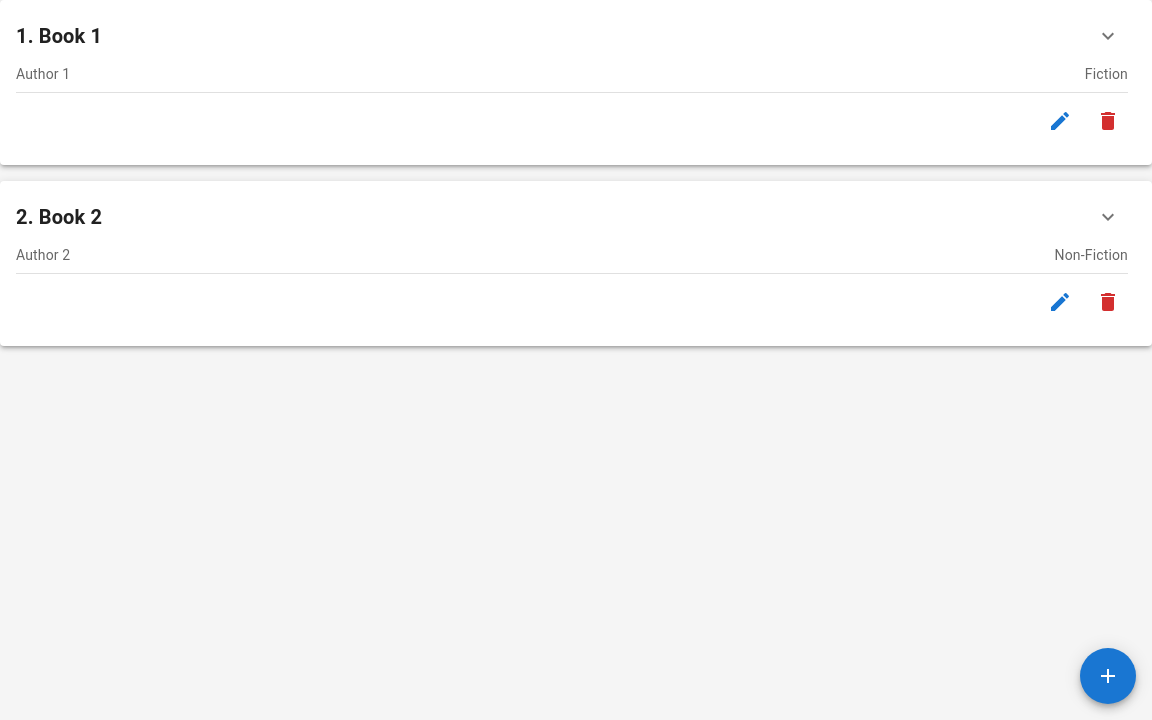
BookList Component › opens modal when Add Book button is clicked
Click the button named "add".
click(1108, 676)  # box [1080,648,1136,704]
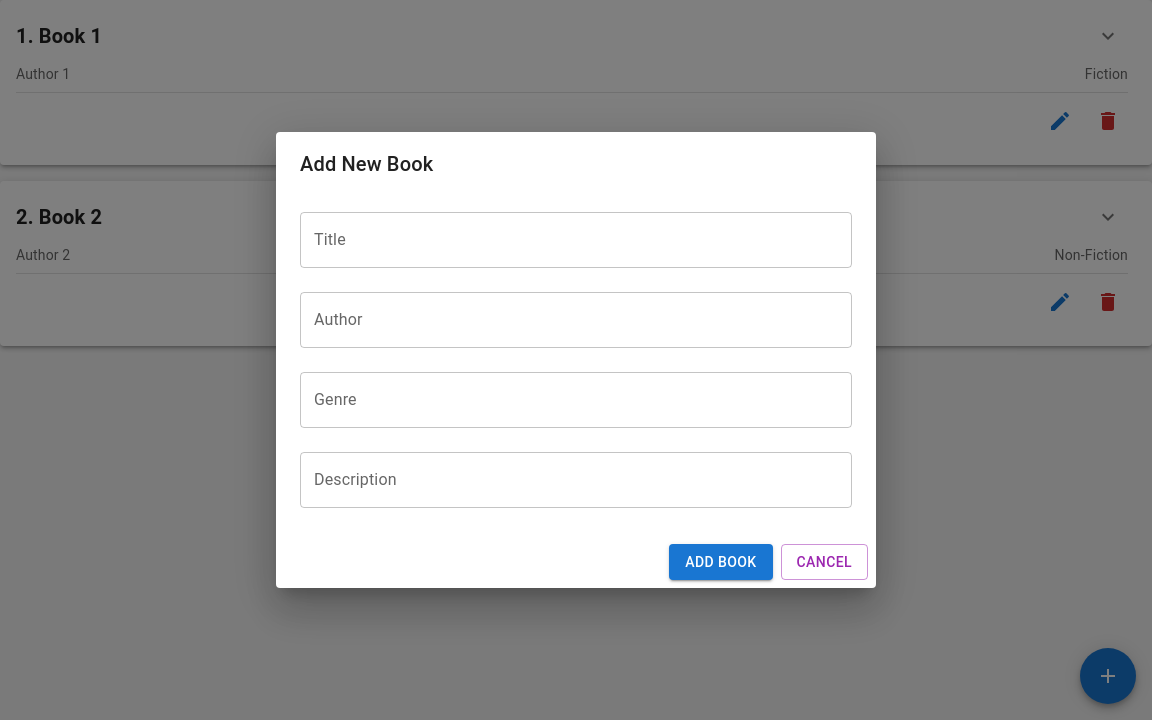
Now the heading "Add New Book" is shown, box [300,152,433,176]
